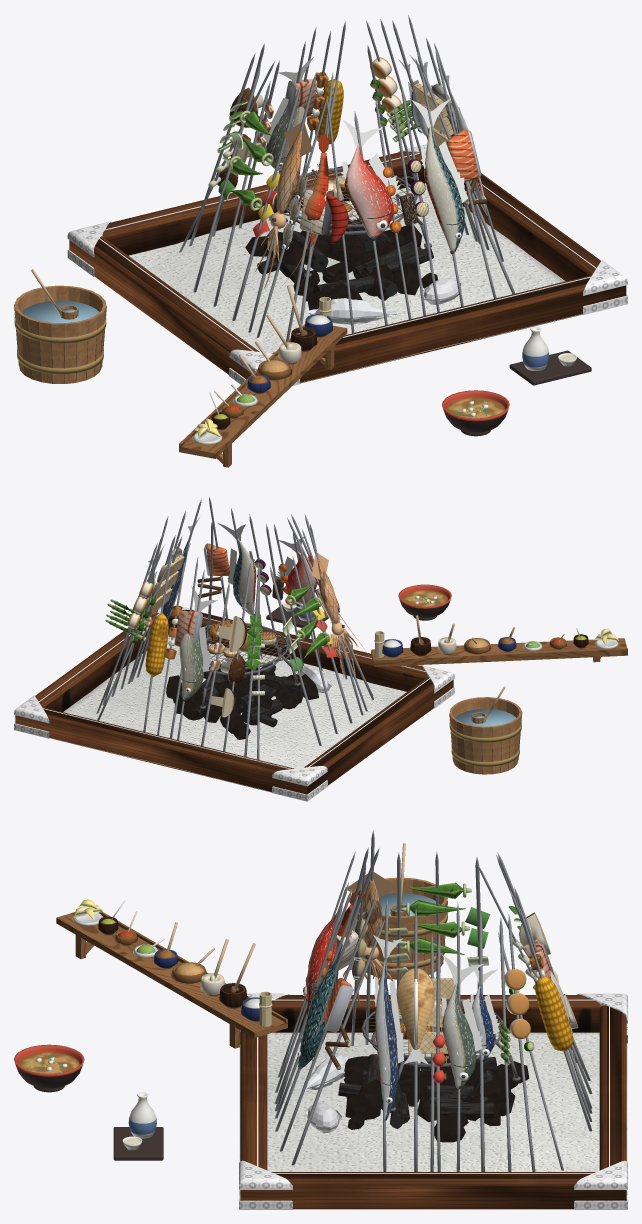
The model's file is grilledfish.glb.
3 renders of one model, top to bottom at view 1: azimuth 30°, elevation 25°; view 2: azimuth 150°, elevation 25°; view 3: azimuth 270°, elevation 25°, orthographic. The views are drawn at different scales.
Visible parts, largest first — view 1: Robuchi, FirePit, WaterBucket, BinchotanHeap, SeasoningBox, Mackerel, Charcoal, Nodoguro, Squid, Sake, Okra, Salmon (+30 smaller); view 2: Robuchi, FirePit, WaterBucket, SeasoningBox, Charcoal, BinchotanHeap, ExtraFish, GrilledShiitake, Squid, Mackerel, Okra, GrilledCorn (+21 smaller); view 3: Robuchi, FirePit, SeasoningBox, Charcoal, BinchotanHeap, Aji, Saury, WaterBucket, Hokke, Okra, Sake, GrilledCorn (+26 smaller).
Part boxes in pixels (box(x1,y1,x2,y2)): Robuchi: box(67, 144, 627, 385); FirePit: box(129, 183, 582, 382); WaterBucket: box(14, 285, 106, 383); BinchotanHeap: box(257, 218, 433, 300); SeasoningBox: box(179, 324, 347, 467); Mackerel: box(411, 73, 468, 306); Charcoal: box(245, 218, 437, 314); Nodoguro: box(341, 111, 400, 325); Squid: box(248, 72, 316, 332); Sake: box(509, 326, 591, 385); Okra: box(213, 81, 273, 306); Salmon: box(435, 48, 496, 298); Robuchi: box(14, 605, 454, 801); FirePit: box(49, 635, 406, 791); WaterBucket: box(449, 697, 522, 774); SeasoningBox: box(371, 638, 627, 666); Charcoal: box(166, 661, 318, 739); BinchotanHeap: box(173, 660, 305, 727); ExtraFish: box(177, 569, 217, 740); GrilledShiitake: box(210, 561, 251, 751); Squid: box(304, 514, 363, 715); Mackerel: box(217, 508, 262, 656); Okra: box(286, 556, 337, 733); GrilledCorn: box(143, 555, 171, 731); Robuchi: box(239, 993, 627, 1209); FirePit: box(239, 1031, 627, 1171); SeasoningBox: box(56, 912, 287, 1048); Charcoal: box(343, 1054, 529, 1142); BinchotanHeap: box(338, 1054, 511, 1129); Aji: box(441, 902, 483, 1171); Saury: box(373, 899, 404, 1171); WaterBucket: box(355, 877, 447, 979); Hokke: box(397, 909, 434, 1171); Okra: box(401, 851, 471, 978); Sake: box(113, 1092, 163, 1160); GrilledCorn: box(519, 906, 592, 1131).
Bounding box in the file's own units: 3.06 × 1.35 × 2.96.
126 materials, 78 textured.
